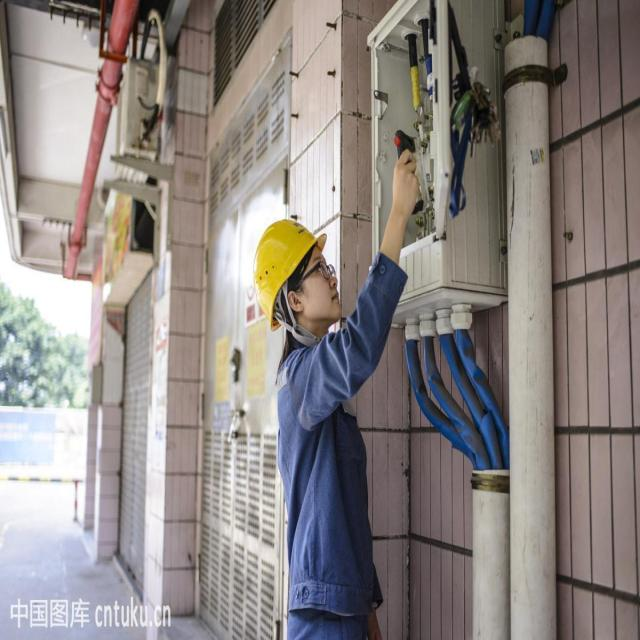face_nomask: (291, 246, 348, 326)
glasses: (314, 260, 340, 282)
hand_noglove: (384, 155, 422, 229)
head_helmet: (248, 220, 327, 325)
person: (250, 152, 420, 639)
